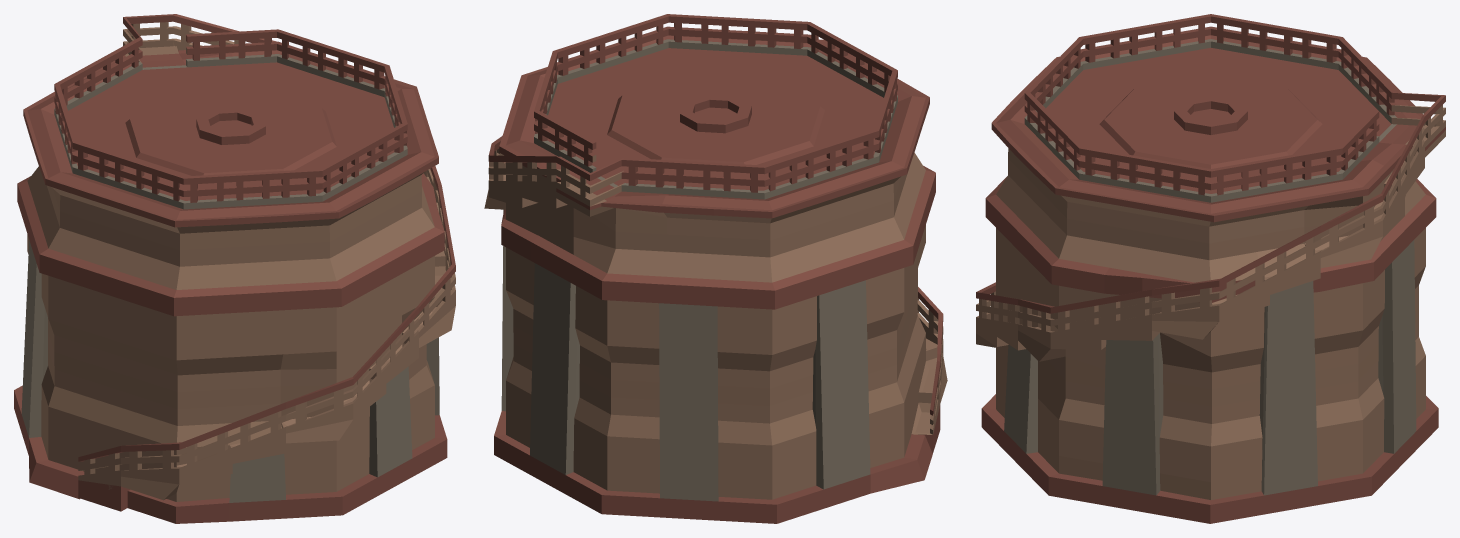
The model's file is Storage_Model.fbx.
The picture shows the model from 3 angles, left to right: view 1: azimuth 30°, elevation 25°; view 2: azimuth 150°, elevation 25°; view 3: azimuth 270°, elevation 25°; orthographic projection. The views are drawn at different scales.
Parts seen in each view (by area): view 1: Storage; view 2: Storage; view 3: Storage.
Boxes of the visible parts, x1,y1,x2,y2 form: Storage: (14,14,455,523); Storage: (484,14,947,523); Storage: (976,14,1445,523).
Bounding box in the file's own units: 1095 × 860 × 1088.
